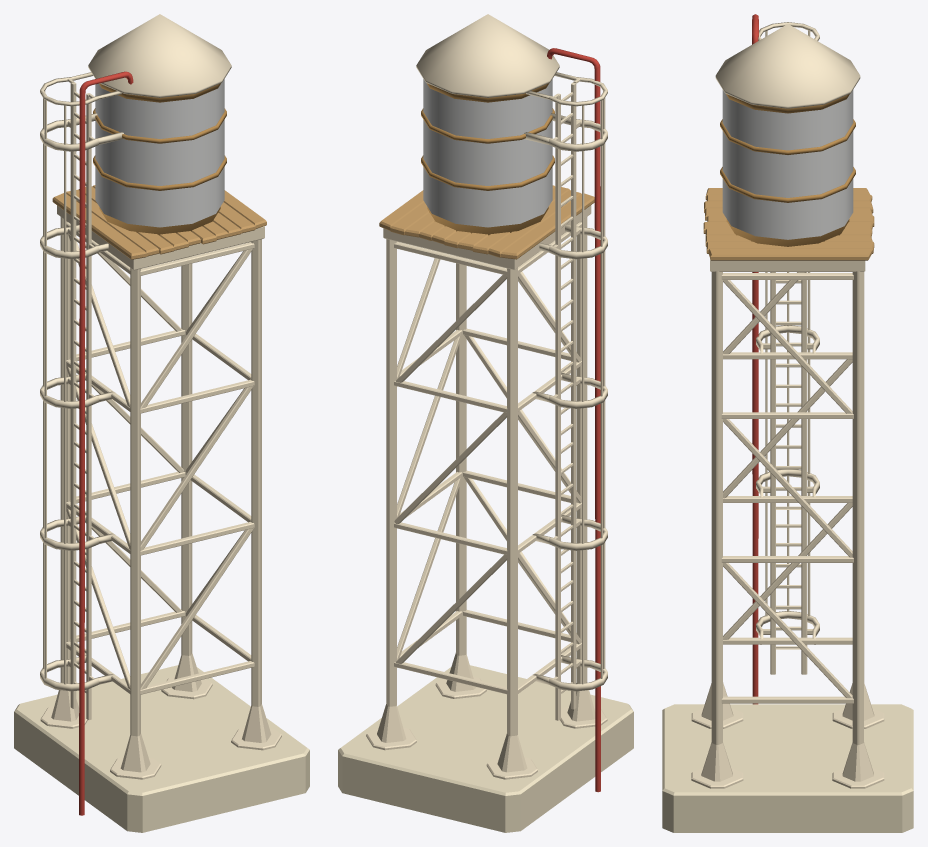
File: farmstractures_25.gltf
The picture shows the model from 3 angles, left to right: view 1: azimuth 30°, elevation 25°; view 2: azimuth 150°, elevation 25°; view 3: azimuth 270°, elevation 25°; orthographic projection.
Visible parts, largest first — view 1: body, blades; view 2: body, blades; view 3: body, blades.
Part boxes in pixels (x1,y1,x2,y2): body: (14, 14, 309, 832); blades: (43, 83, 91, 719); body: (338, 14, 633, 832); blades: (555, 84, 605, 720); body: (662, 14, 913, 832); blades: (765, 30, 810, 674).
Bounding box in the file's own units: 2.89 × 10.13 × 2.98.
Materials: 1 (1 with a texture image).
